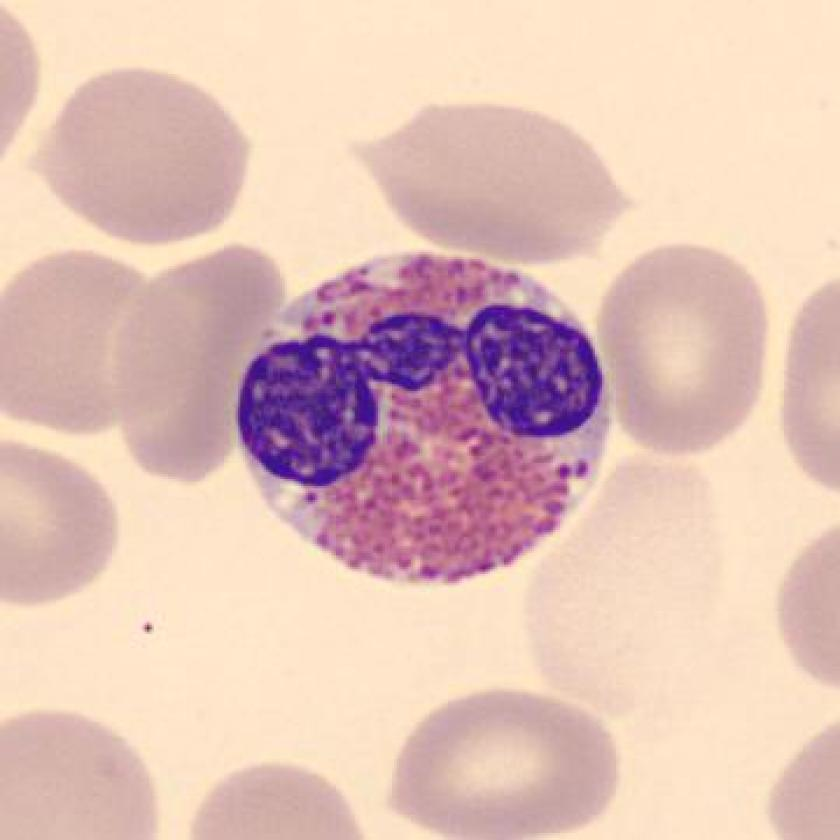eosinophil: (220, 242, 629, 596)
